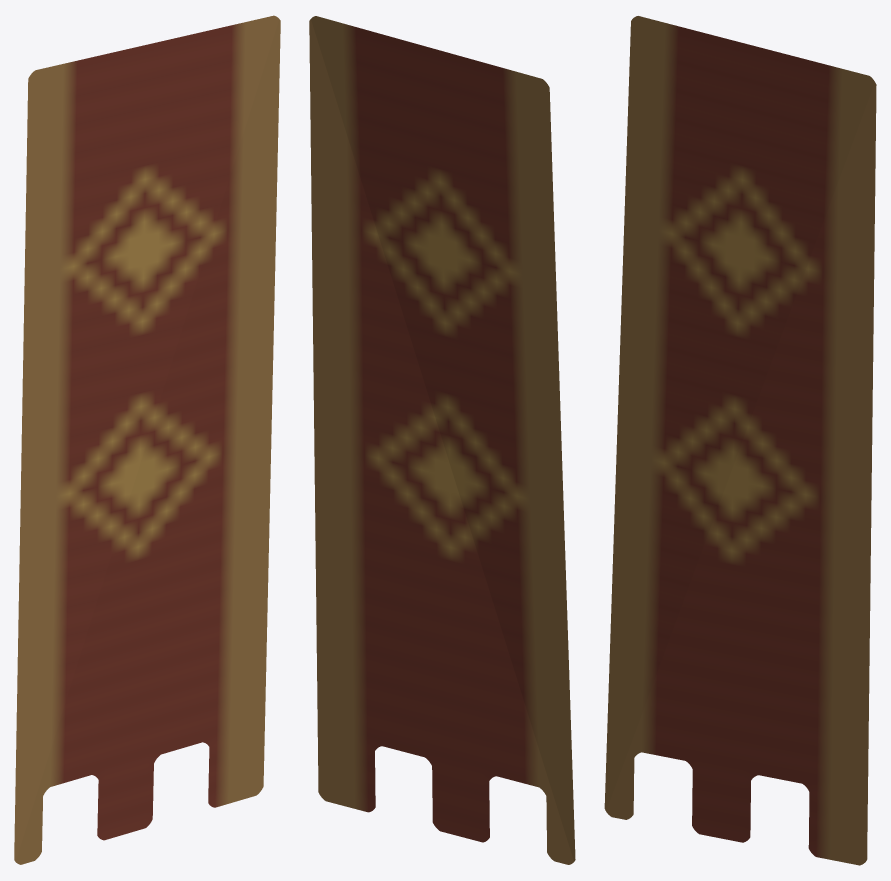
Rendered from SM_Banner_Diamond.fbx.
3 views of the same model, side by side, from view 1: azimuth 30°, elevation 25°; view 2: azimuth 150°, elevation 25°; view 3: azimuth 330°, elevation 25° (orthographic). The views are drawn at different scales.
Visible parts, largest first — view 1: Banner_Diamond_Visual; view 2: Banner_Diamond_Visual; view 3: Banner_Diamond_Visual.
Boxes of the visible parts, left/top/right/bottom form: Banner_Diamond_Visual: left=14, top=15, right=280, bottom=864; Banner_Diamond_Visual: left=309, top=16, right=575, bottom=864; Banner_Diamond_Visual: left=604, top=16, right=876, bottom=865.
Size of the model in its own units: 0.1893 by 0.5344 by 0.00757.
